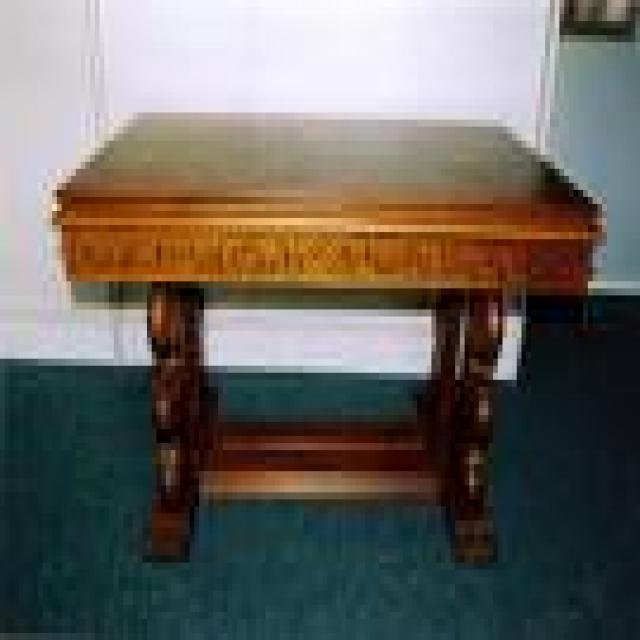table: (53, 110, 607, 569)
